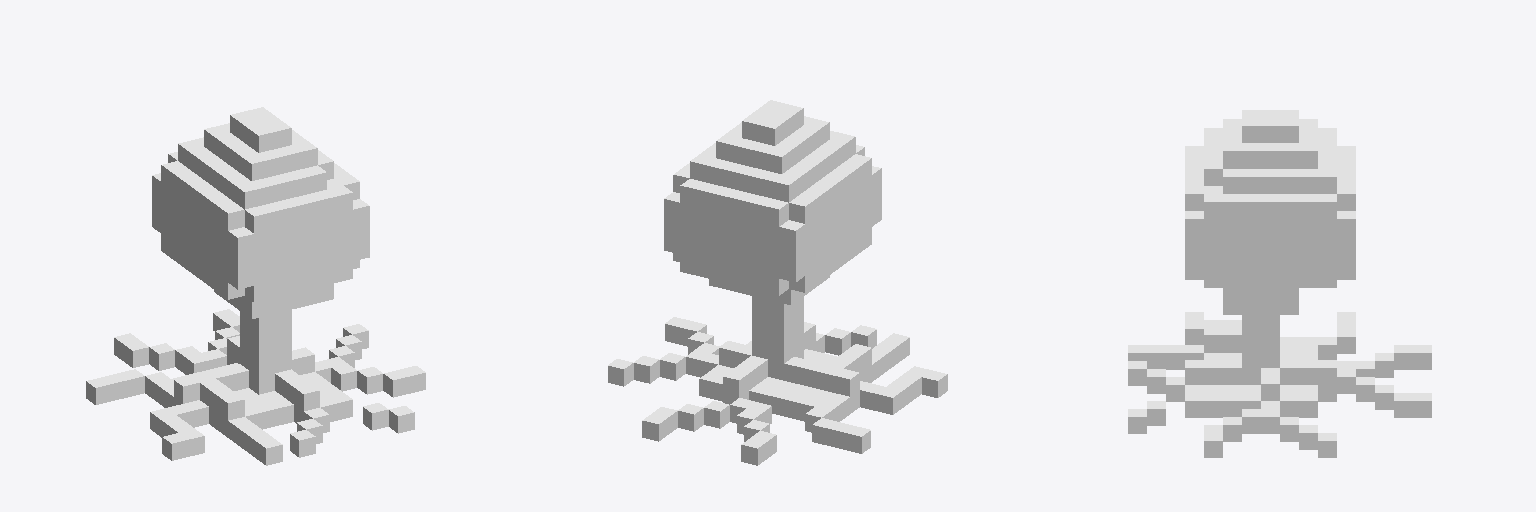
The model's file is tree1.obj.
The picture shows the model from 3 angles: view 1: azimuth 30°, elevation 25°; view 2: azimuth 150°, elevation 25°; view 3: azimuth 270°, elevation 25°; orthographic projection.
Visible parts, largest first — view 1: object 1; view 2: object 1; view 3: object 1.
Part boxes in pixels (left/top/right/bottom): object 1: left=86, top=107, right=425, bottom=465; object 1: left=608, top=100, right=947, bottom=465; object 1: left=1128, top=110, right=1431, bottom=457.
Size of the model in its own units: 1.6 by 1.6 by 1.6.